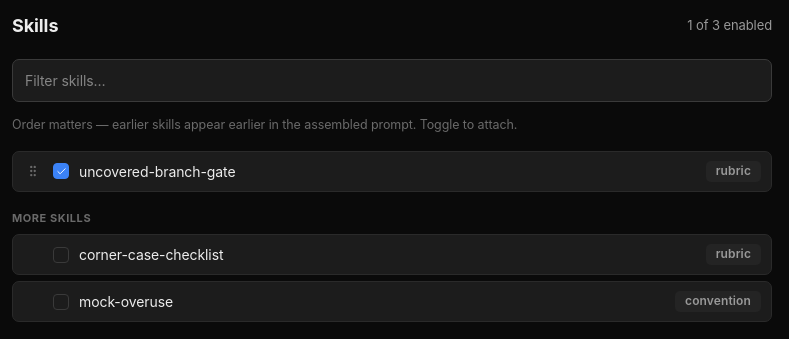
Test: SkillsTab (smoke) › filters both sections by name
In the field with placeholder "Filter skills…": (392, 80) [25,70,759,91], type "mock"
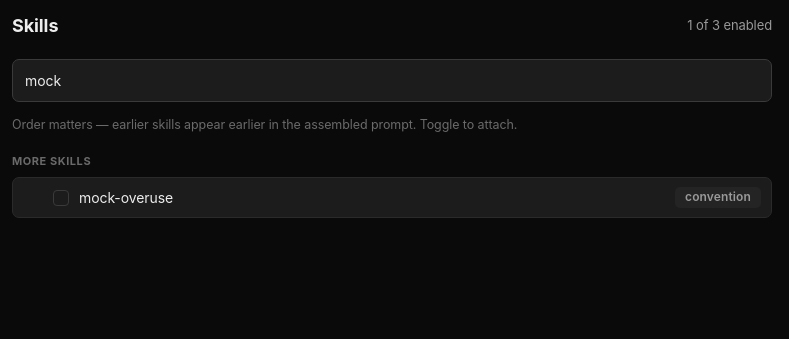
Expected: the text "mock-overuse" is shown, [79,189,173,206]
Expected: the text "uncovered-branch-gate" is gone
